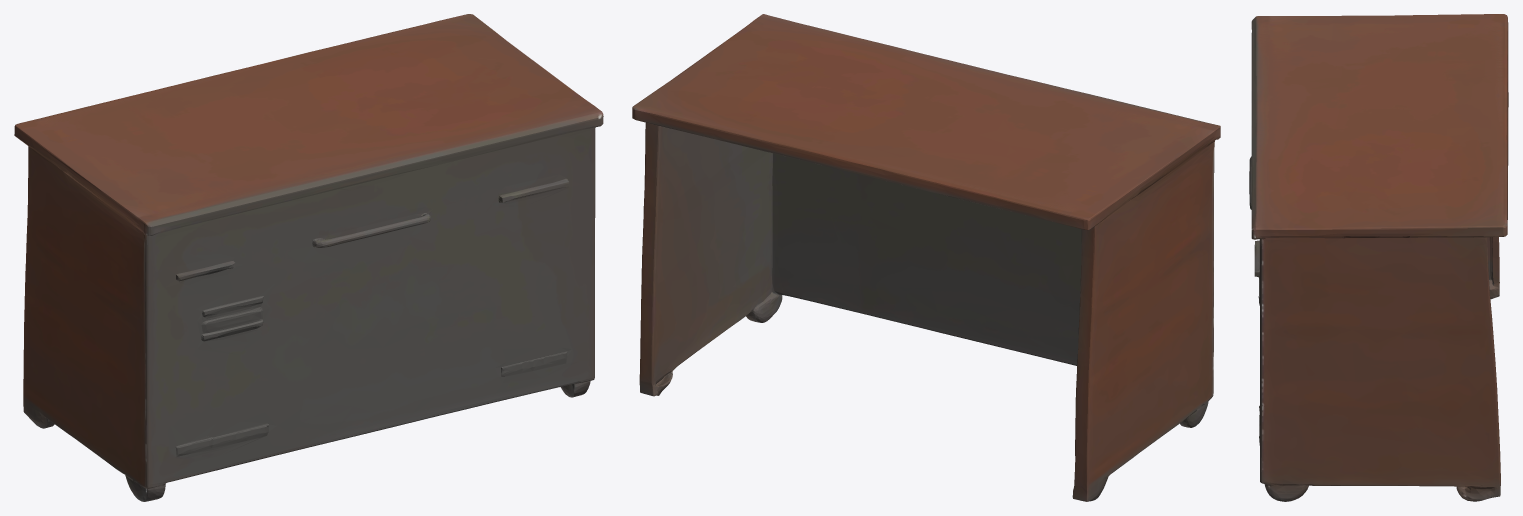
The picture shows the model from 3 angles, left to right: view 1: azimuth 30°, elevation 25°; view 2: azimuth 150°, elevation 25°; view 3: azimuth 270°, elevation 25°; orthographic projection. The views are drawn at different scales.
Visible parts, largest first — view 1: wooden_textured_desk.obj; view 2: wooden_textured_desk.obj; view 3: wooden_textured_desk.obj.
Part boxes in pixels (left/top/right/bottom): wooden_textured_desk.obj: left=14, top=14, right=603, bottom=501; wooden_textured_desk.obj: left=632, top=14, right=1220, bottom=501; wooden_textured_desk.obj: left=1249, top=14, right=1508, bottom=501.
Size of the model in its own units: 1.2 by 0.7371 by 0.6164.
Materials: 1 (1 with a texture image).
